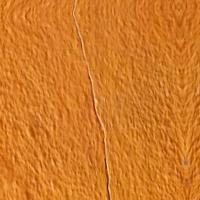crack: (75, 97, 135, 199)
